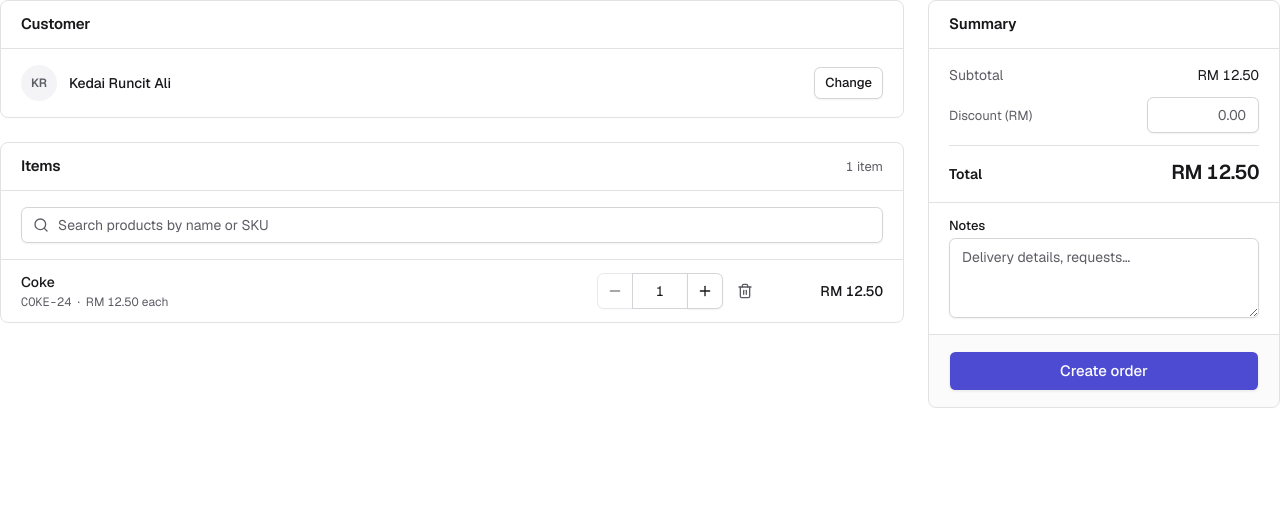
Scenario: OrderComposer › keeps phone and desktop views in sync (resizing never loses the draft)
expect the text named "Order total" reads "RM 12.50": met, box top-left (1171, 159), bottom-right (1259, 185)
Click the button named "Increase Coke" at (705, 291), box top-left (687, 273), bottom-right (723, 309)
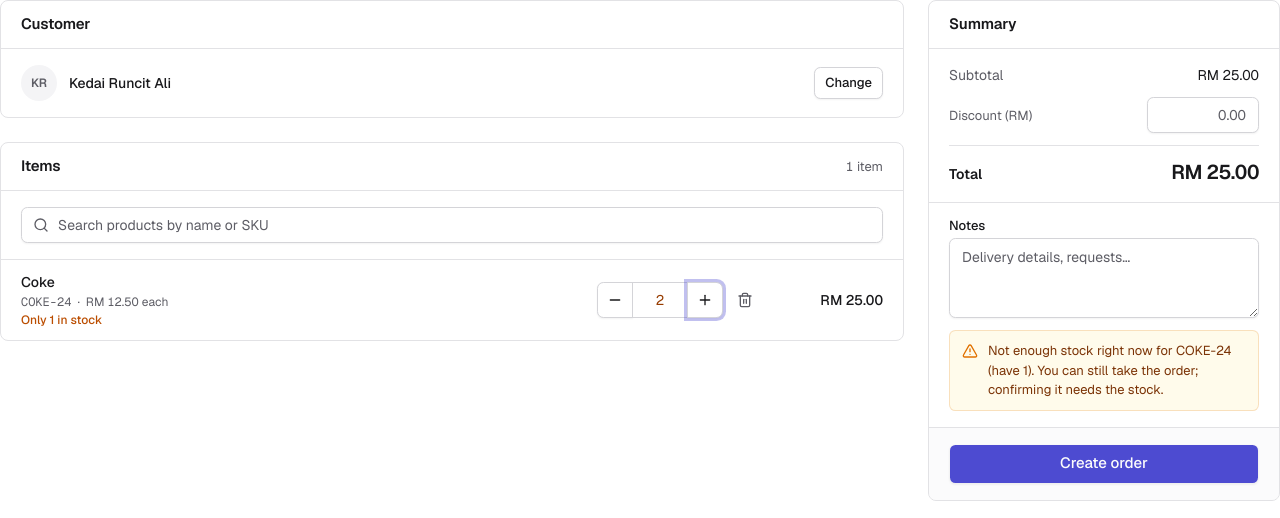
expect the text named "Order total" reads "RM 25.00": met, box top-left (1171, 159), bottom-right (1259, 185)
